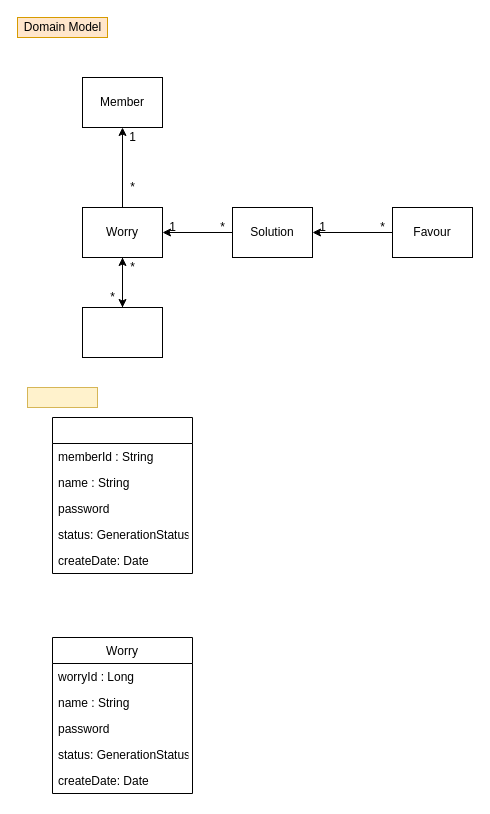
Image size: 490x814. Some labels were removed from this diagram. The box of each missing label's shape, as (x1, y1, x2, y2) in pixels:
Category: (82, 306, 162, 358)
Entity 분석: (26, 386, 98, 408)
Meber: (52, 416, 192, 574)
